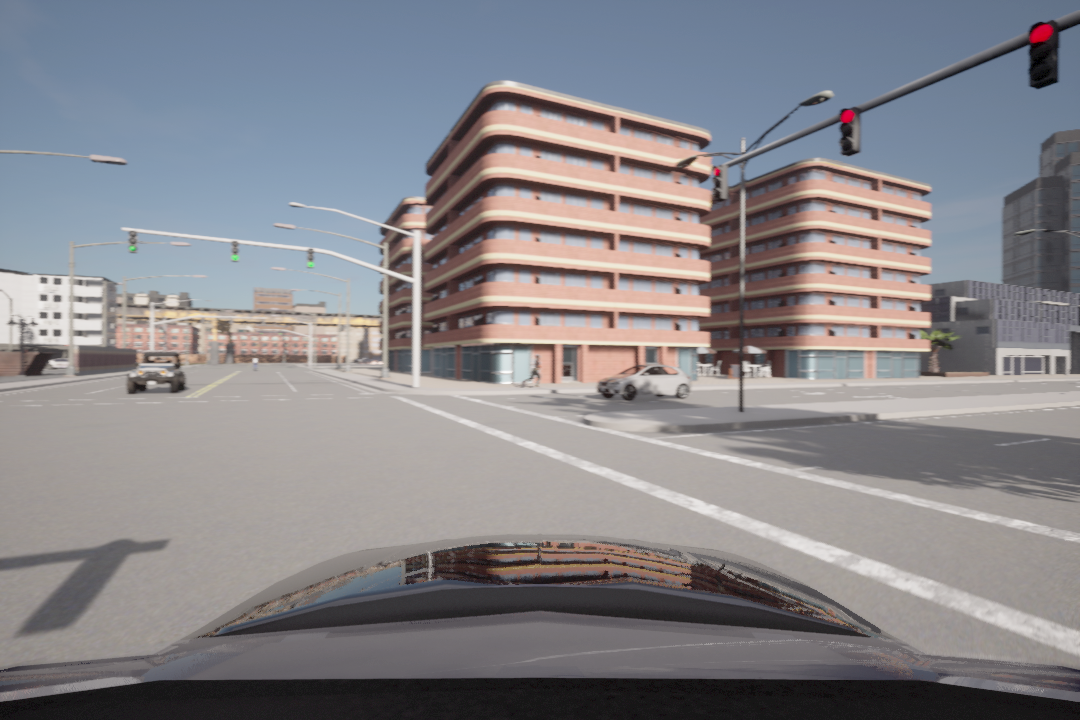TrafficLight: (1024, 16, 1062, 95), (832, 105, 859, 153), (707, 161, 728, 203), (126, 229, 141, 254), (227, 240, 241, 266), (305, 246, 314, 271)
